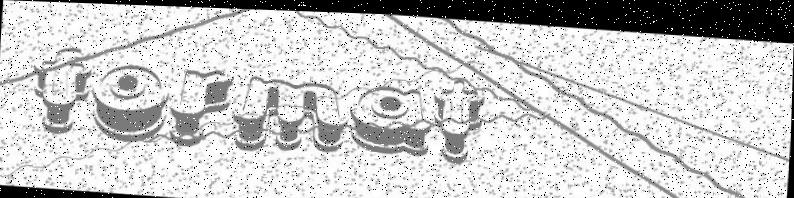a: (350, 80, 434, 155)
f: (30, 43, 95, 135)
m: (230, 71, 352, 157)
o: (88, 59, 171, 143)
r: (168, 64, 234, 149)
t: (430, 72, 487, 161)
